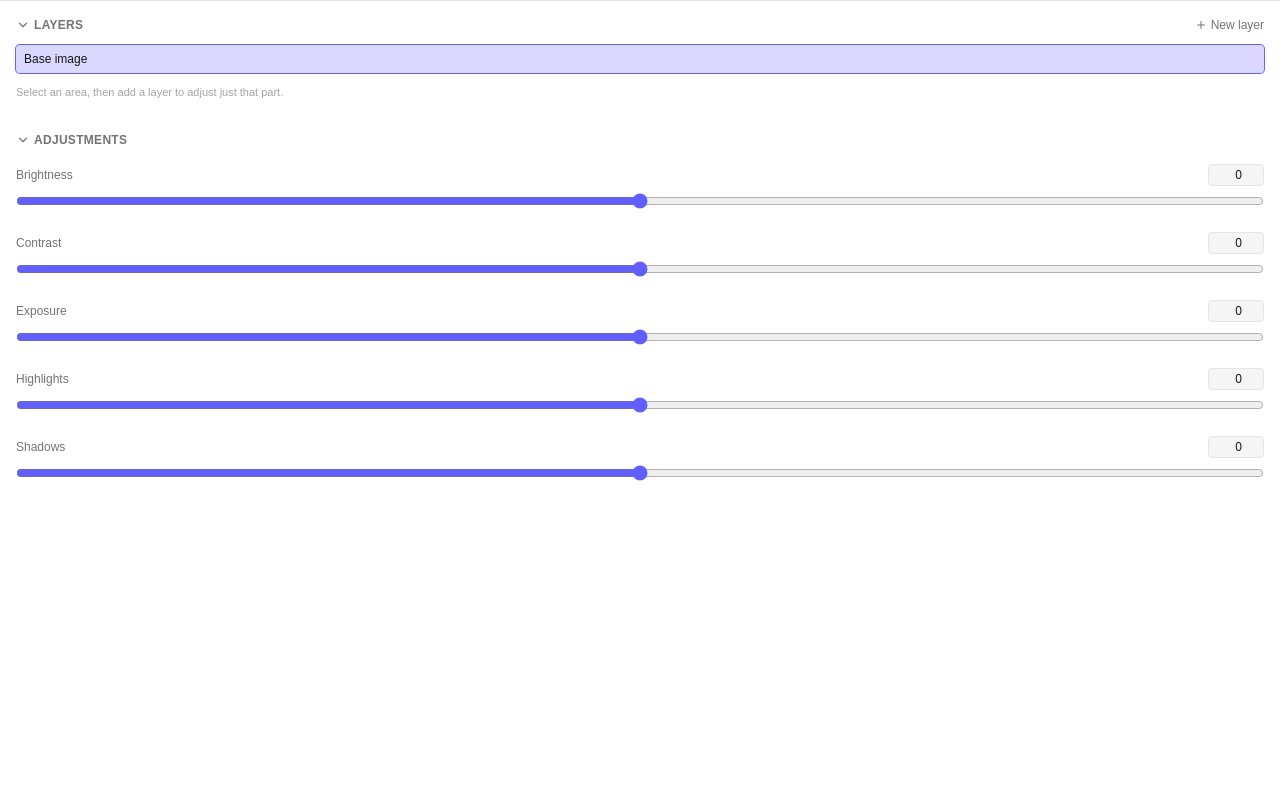
Test: LayersPanel (PHOTO-011 phase 2) › switches the target, and the adjustment panels follow it
Click the button "New layer" at (1229, 25), box [1195, 17, 1264, 33]
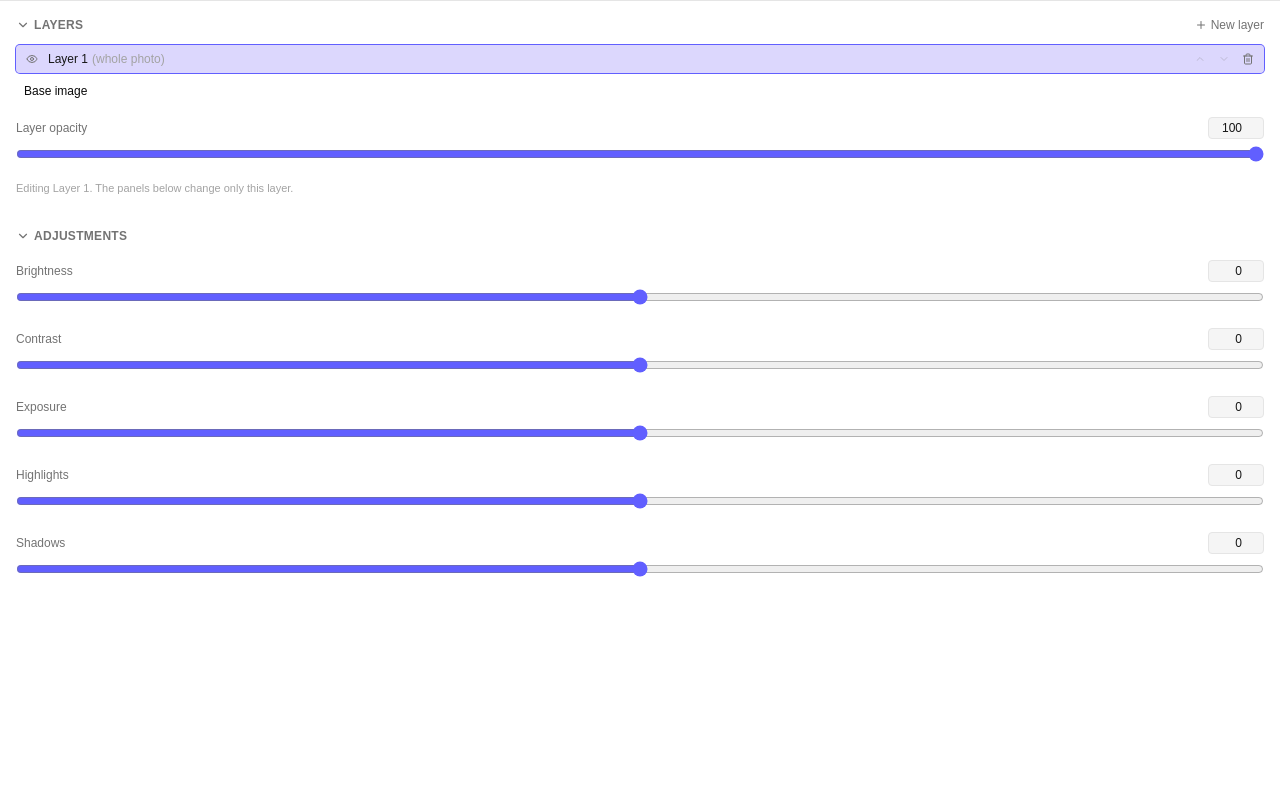
Set the slider below "Brightness" to "35" at (856, 297), box [16, 289, 1264, 305]
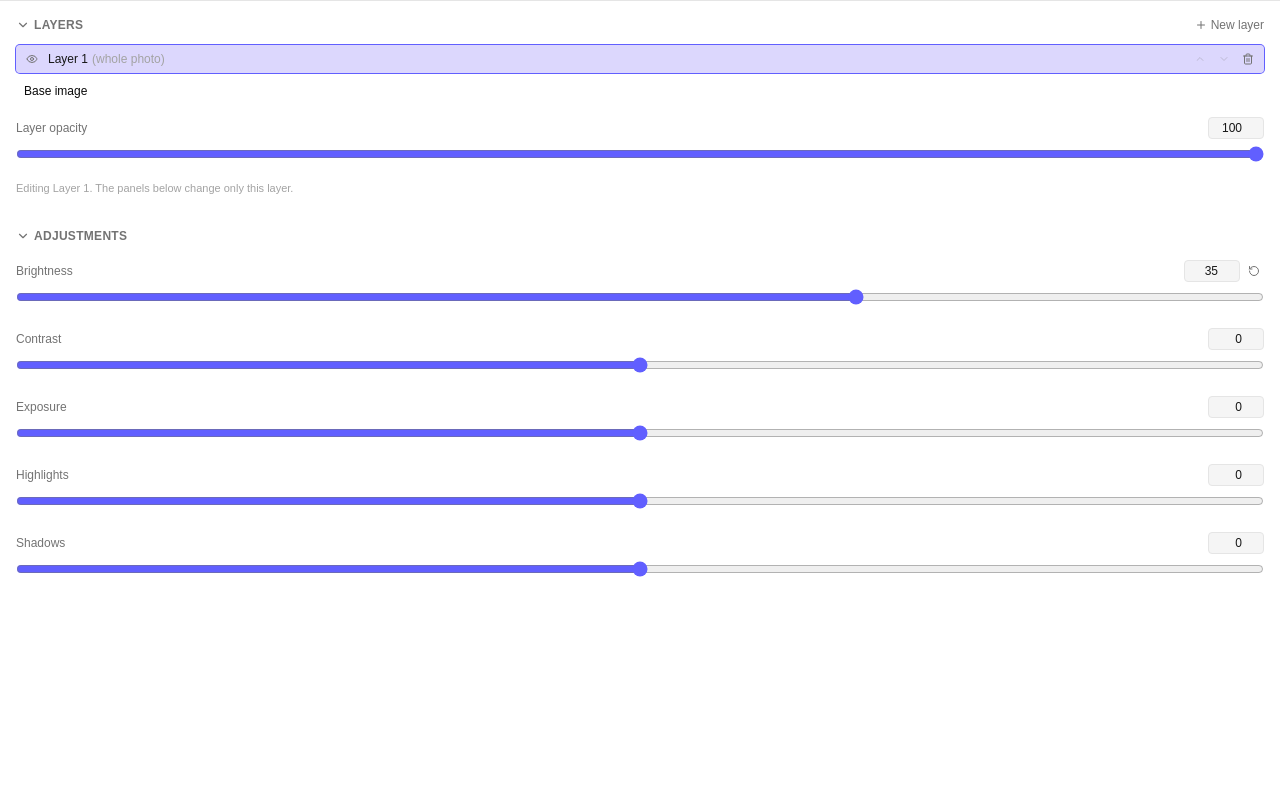
Click the button "Base image" at (56, 91), box [16, 77, 1264, 105]
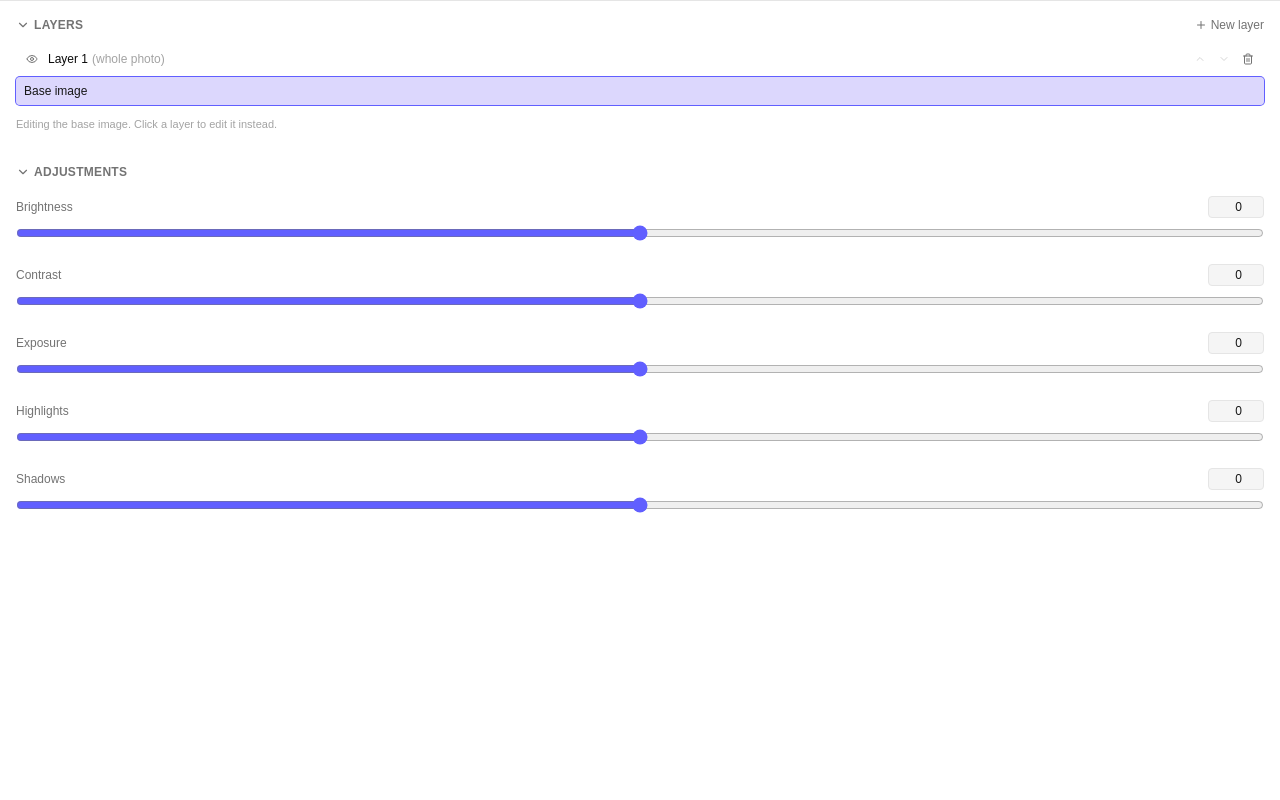
Result: the slider below "Brightness" holds "0" at [16, 225, 1264, 241]
Result: the text "Layer opacity" is gone
